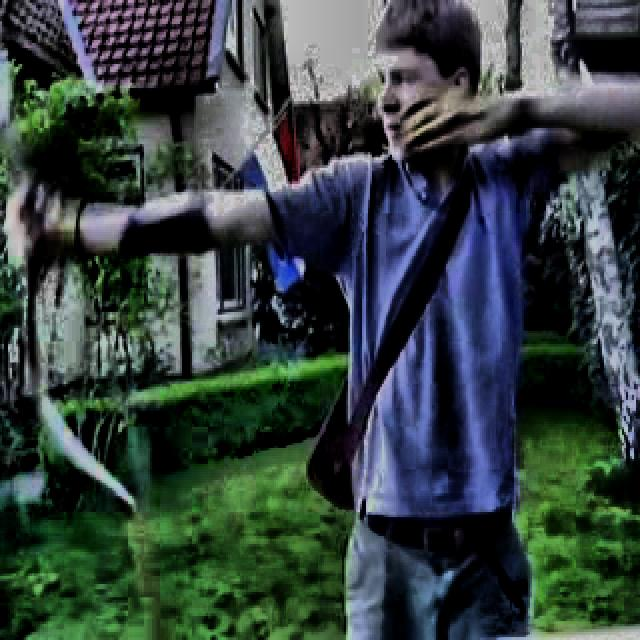P: (4, 9, 633, 631)
